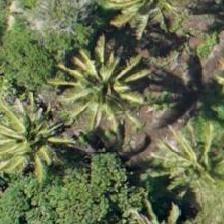coconut_tree: (62, 48, 152, 138), (0, 100, 79, 190), (147, 116, 223, 206)
